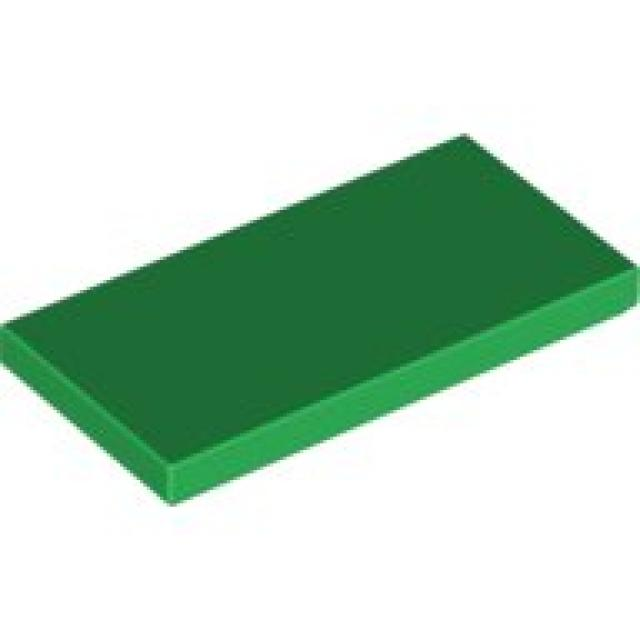Green_Small: (0, 133, 640, 507)
